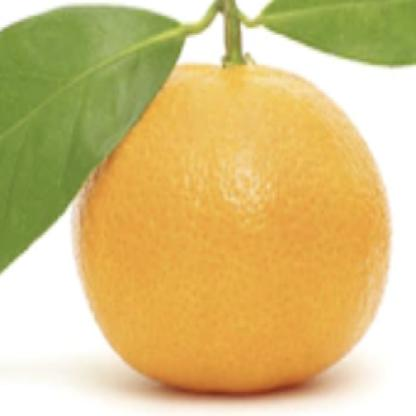fresh: (73, 51, 388, 393)
